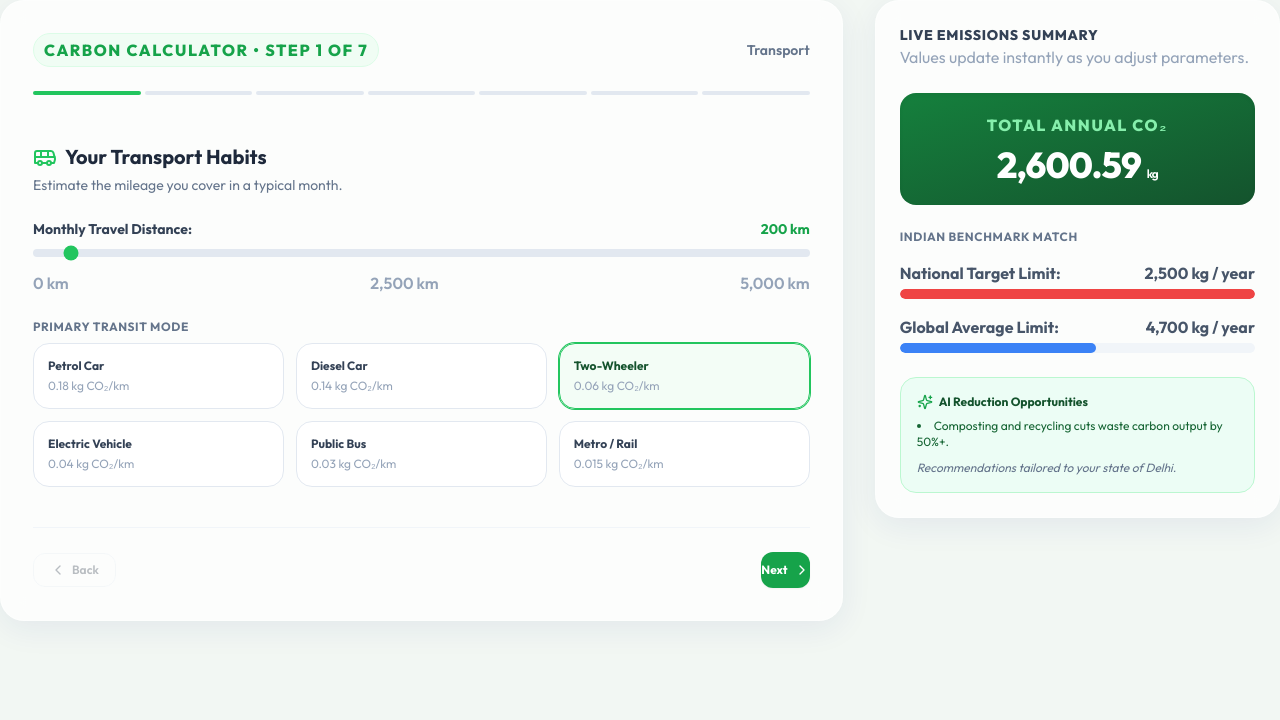
Test: CalculatorView Component › transitions to next step when clicking Next
# Click Next button
Click the button "Next" at (786, 570), box [761, 552, 810, 588]
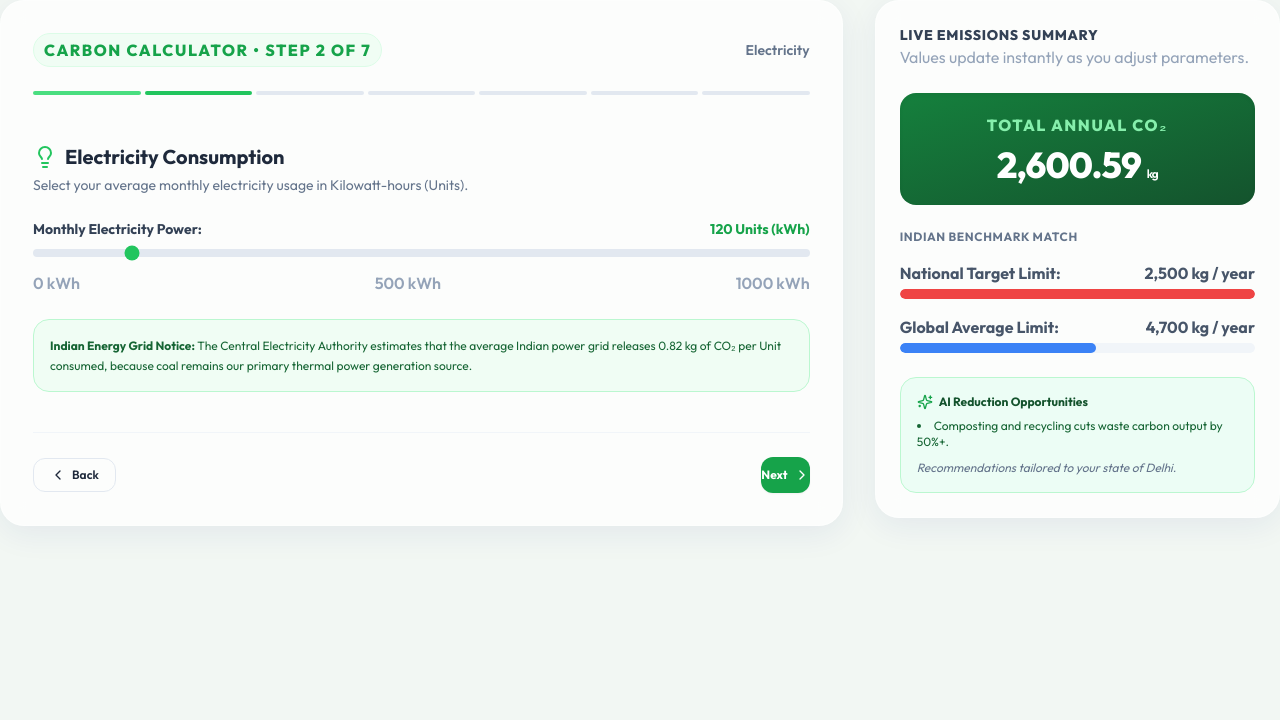
Expected: the text "Carbon Calculator • Step 2 of 7" is shown, [33, 33, 382, 67]
Expected: the heading "Electricity Consumption" is shown, [33, 144, 284, 169]
